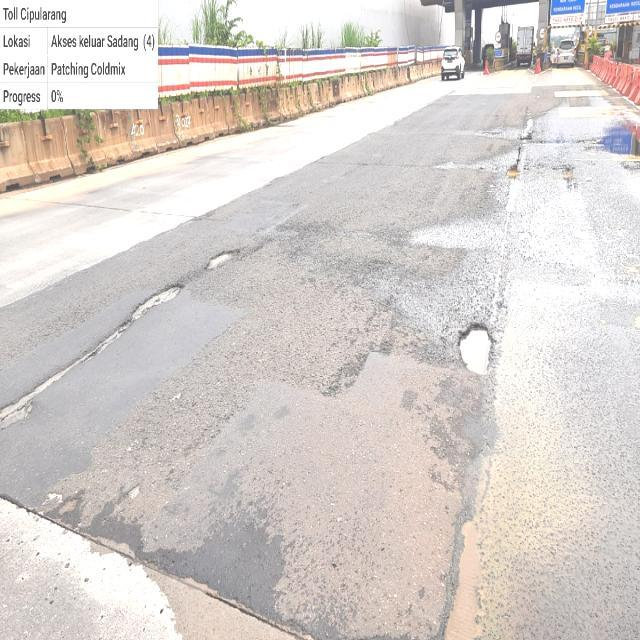Buraco: (0, 282, 185, 433), (454, 321, 498, 377), (202, 248, 242, 274), (503, 162, 524, 180), (560, 167, 576, 183)
